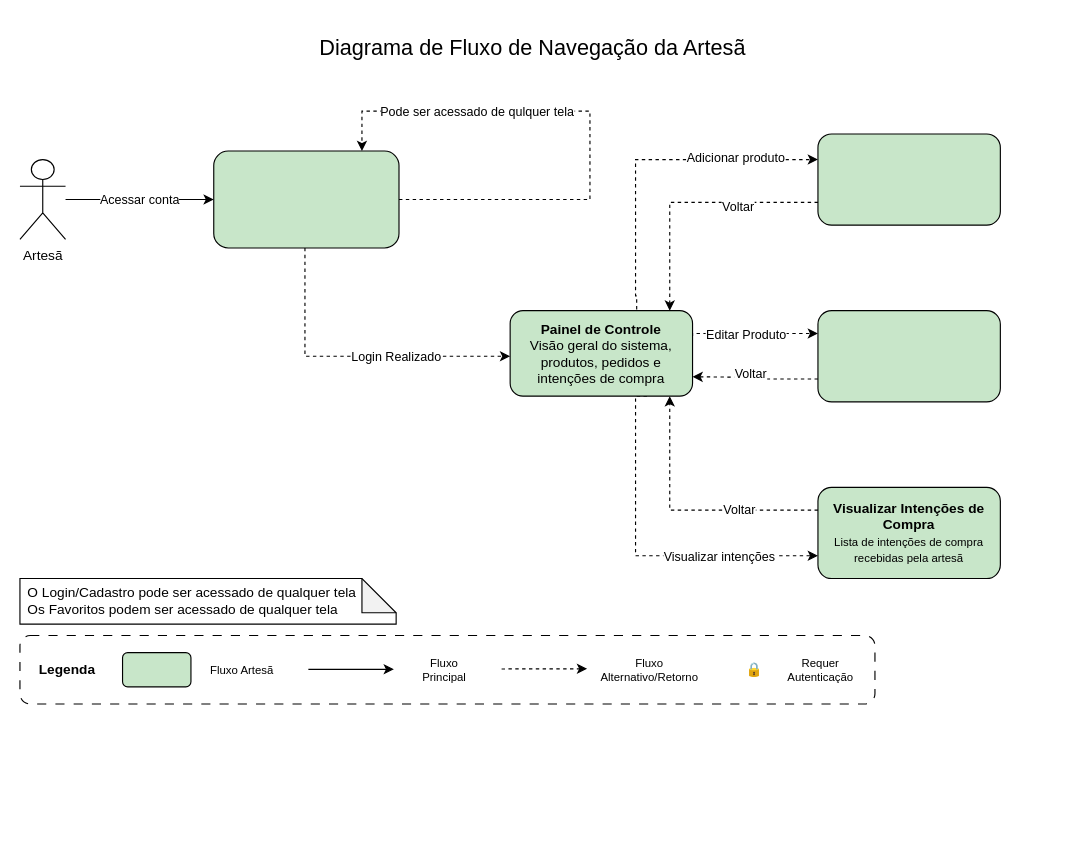
Some shapes in this 1091 by 848 pixel diagram are drawn without their labels. Here are the shapes that lost their labels. From the top down, the centre of each, then its label:
At (x=306, y=199): "🔒 Login / Cadastro Acesso para clentes / artesãs ou criação de nova conta".
At (x=908, y=179): "Adicionar Produto Formulário para adicionar novo produto".
At (x=908, y=356): "Editar Produto Formulário para editar produto selecionado".
